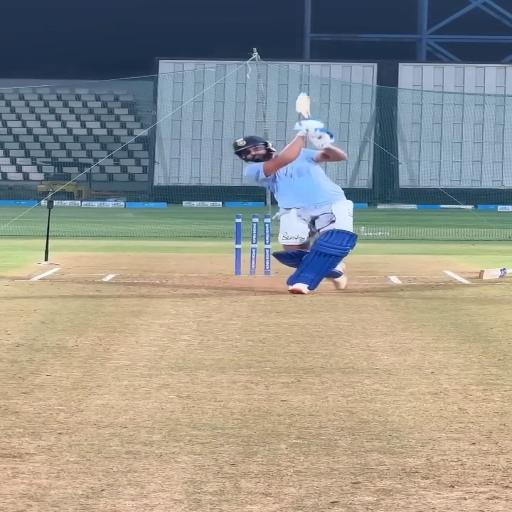Cricket bat: (296, 93, 310, 119)
